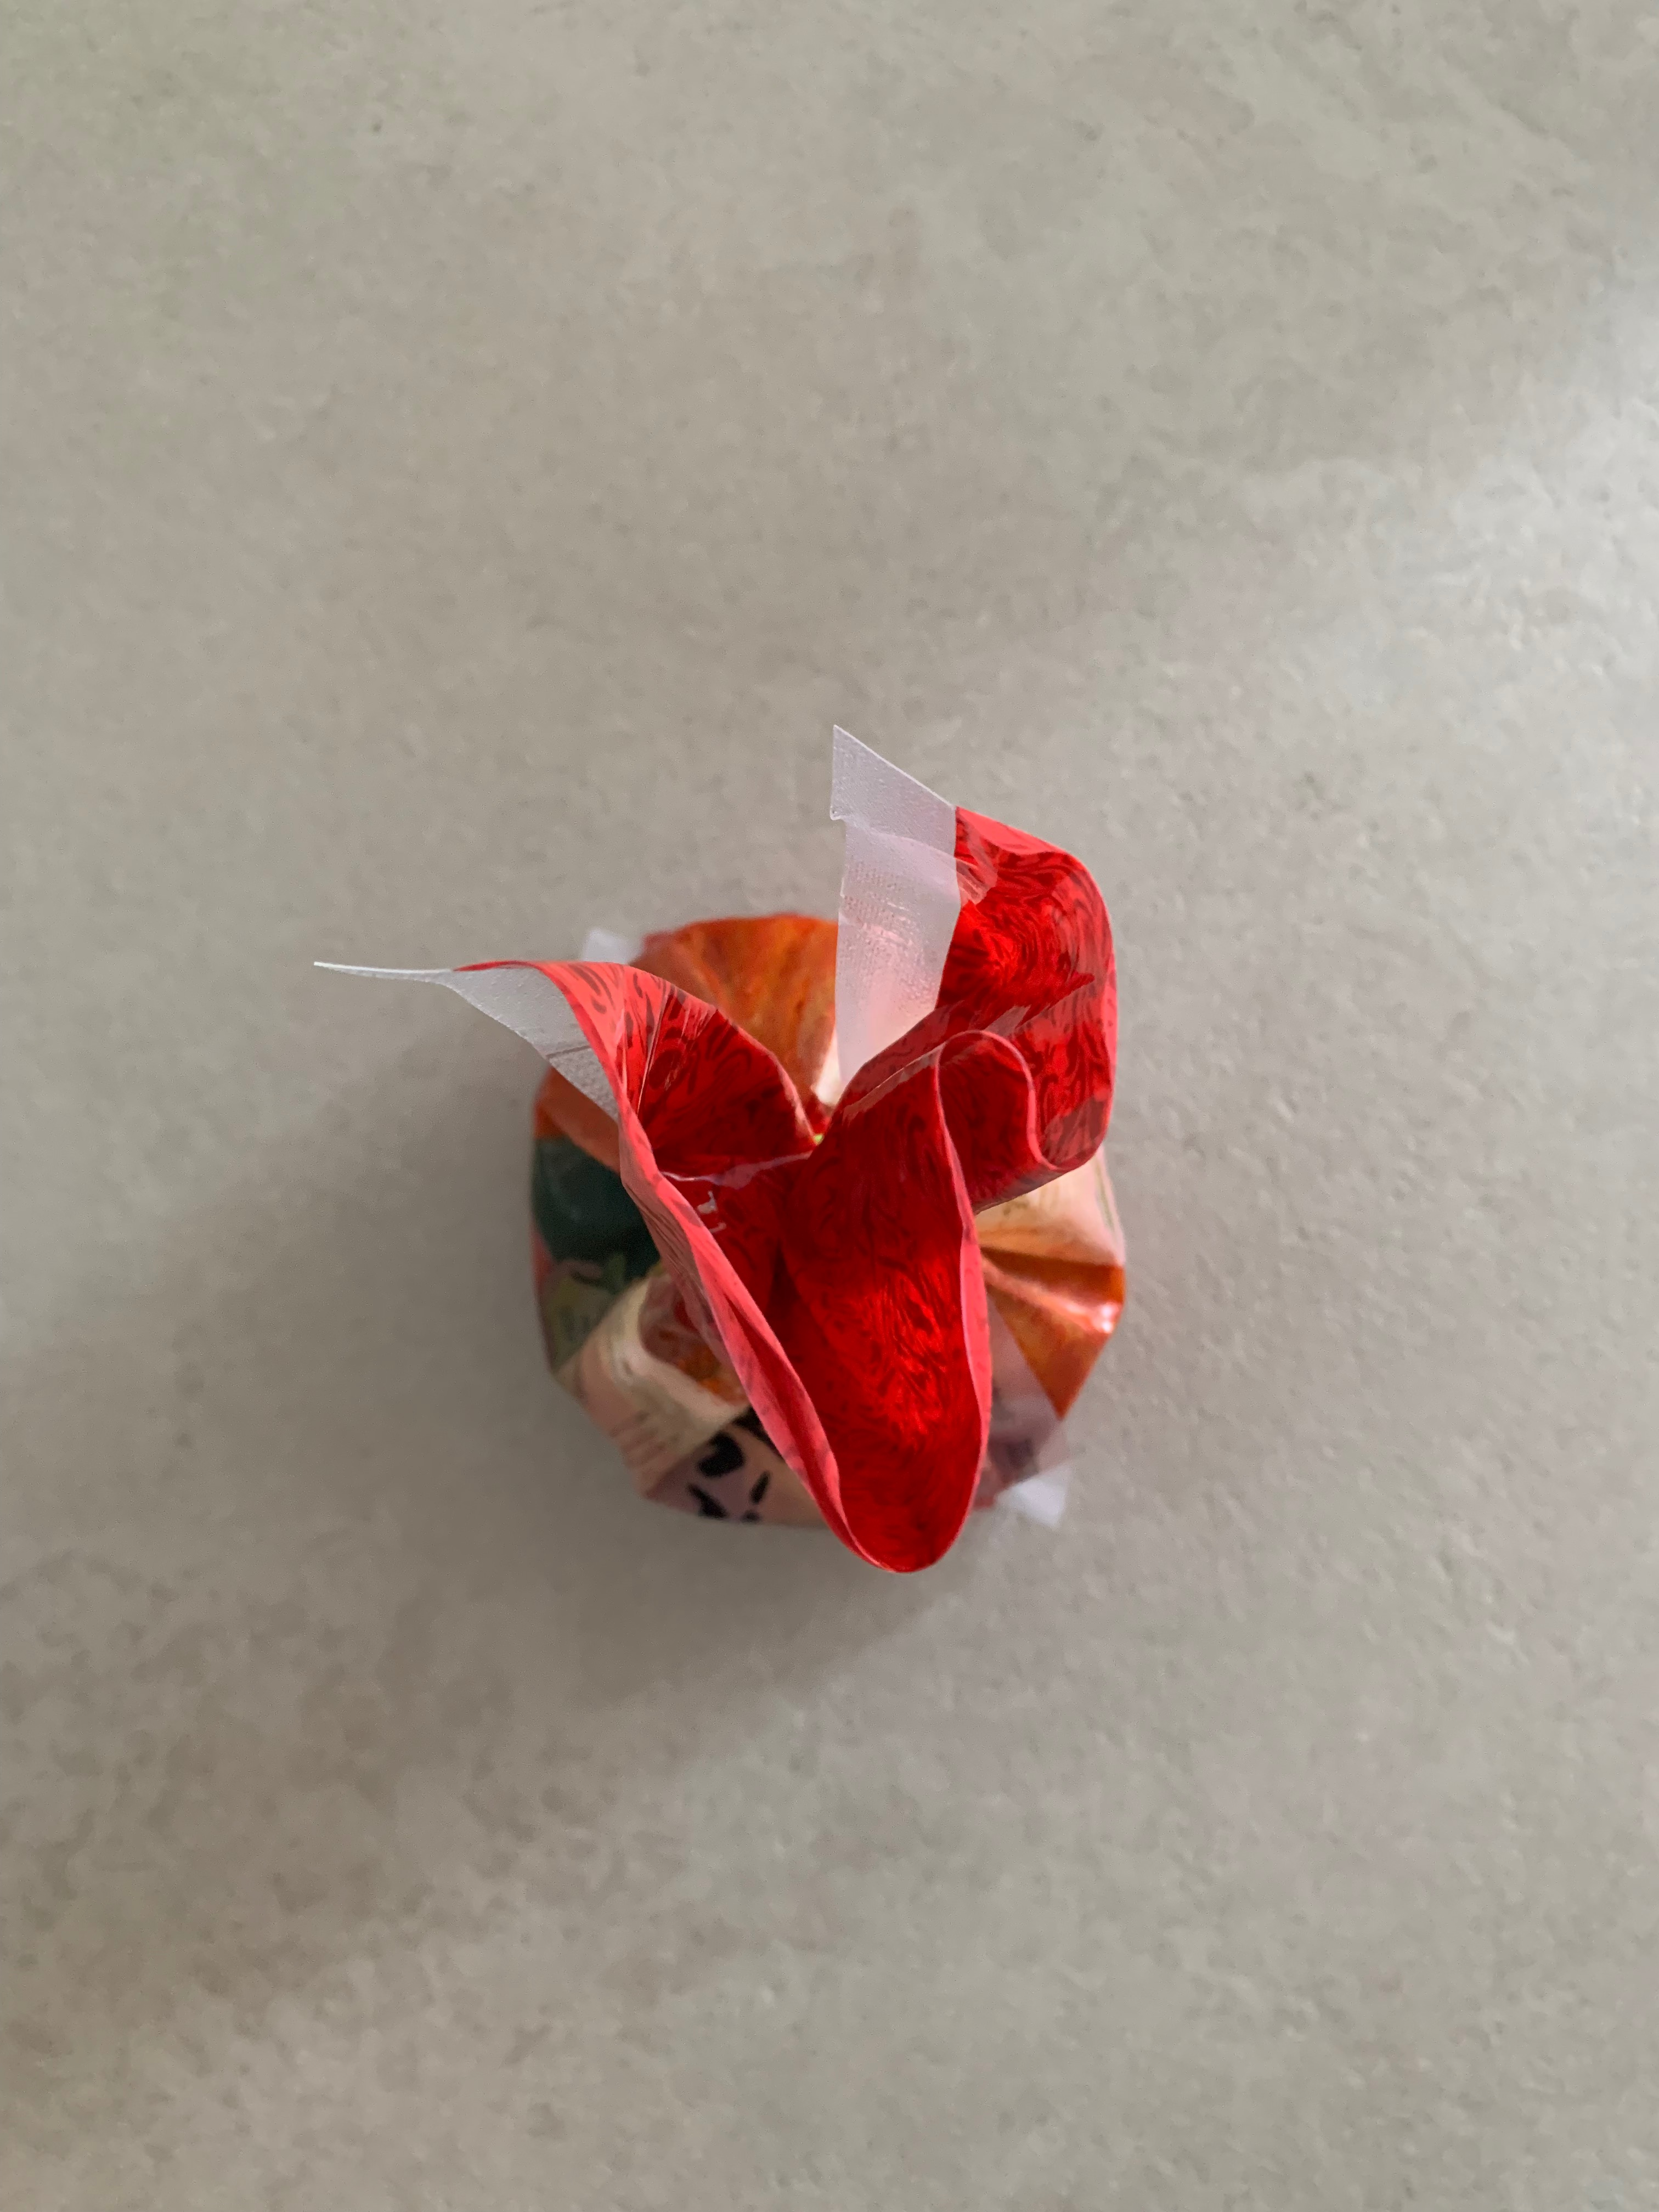kimchi: (528, 820, 1126, 1564)
